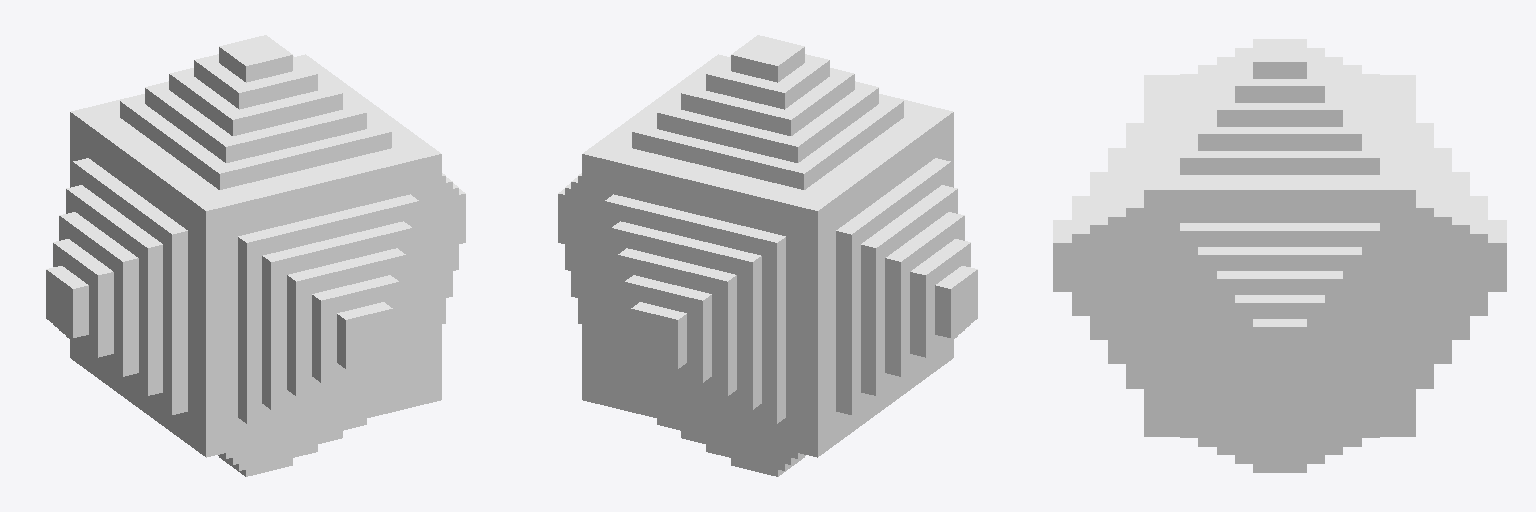
The model's file is spike.obj.
The picture shows the model from 3 angles: view 1: azimuth 30°, elevation 25°; view 2: azimuth 150°, elevation 25°; view 3: azimuth 270°, elevation 25°; orthographic projection.
Size of the model in its own units: 1 by 1 by 1.